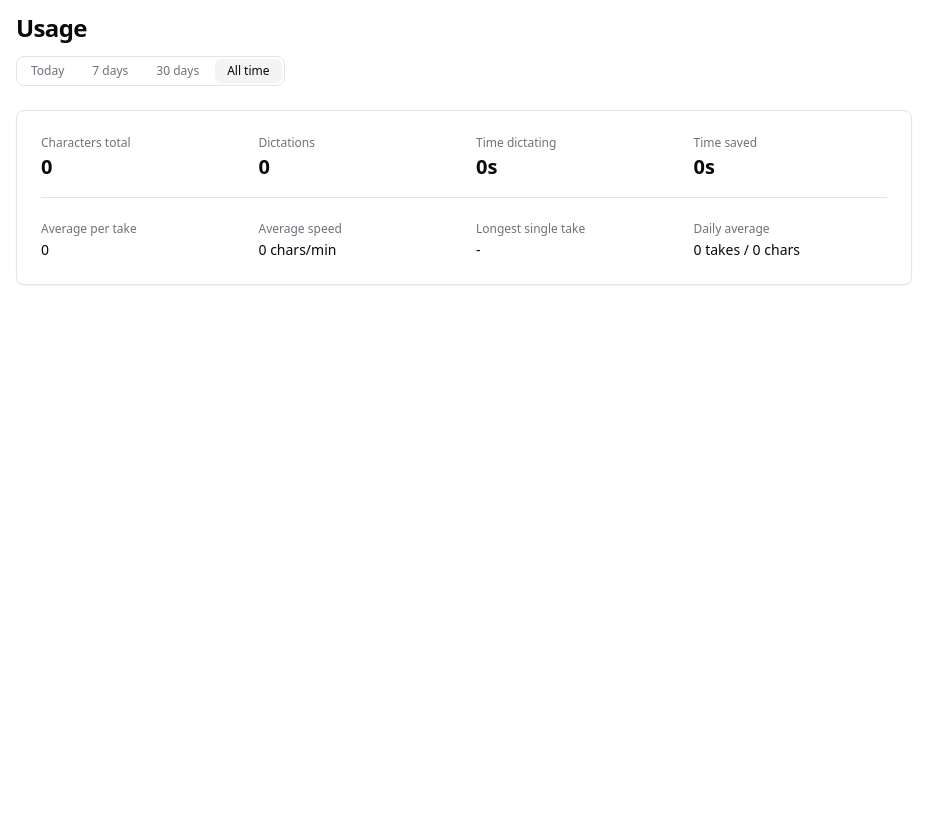
Test: usage page › asks for the period from local midnight and labels its breakdowns
What coordinates should you click on to do the following:
click the button "Today"
I would click on:
 (48, 71)
Its box is [19,59,76,83].
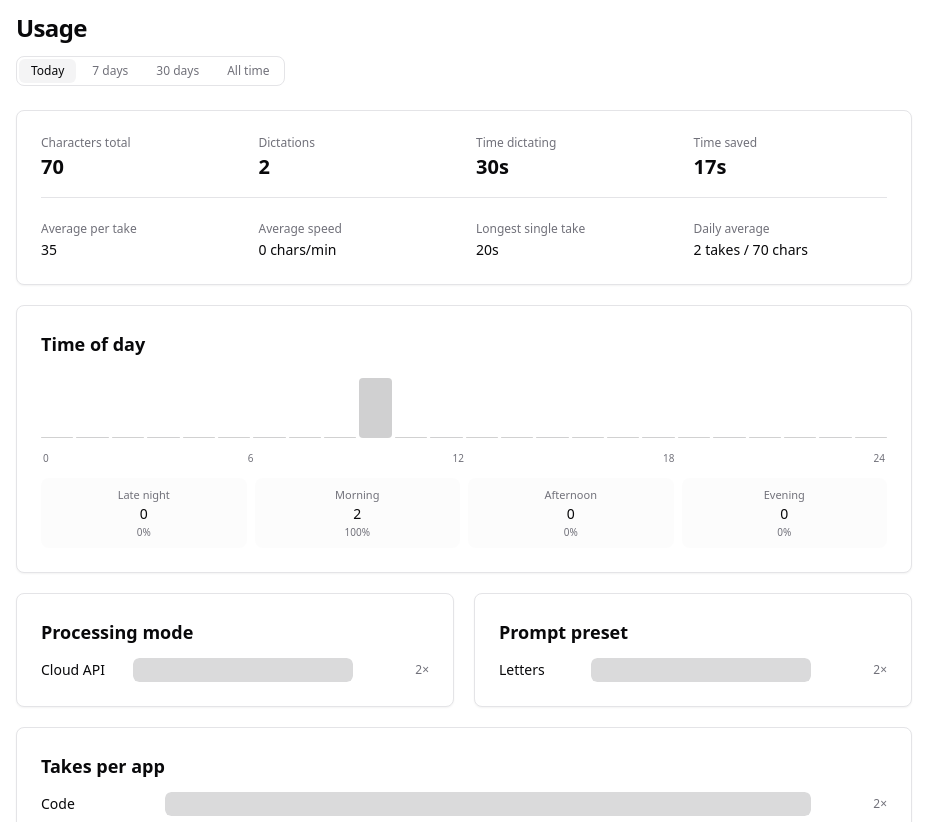
expect the text "Code" is shown: met, box [41,794,75,813]
expect the text "Letters" is shown: met, box [499,660,545,679]
expect the text "Cloud API" is shown: met, box [41,660,105,679]
